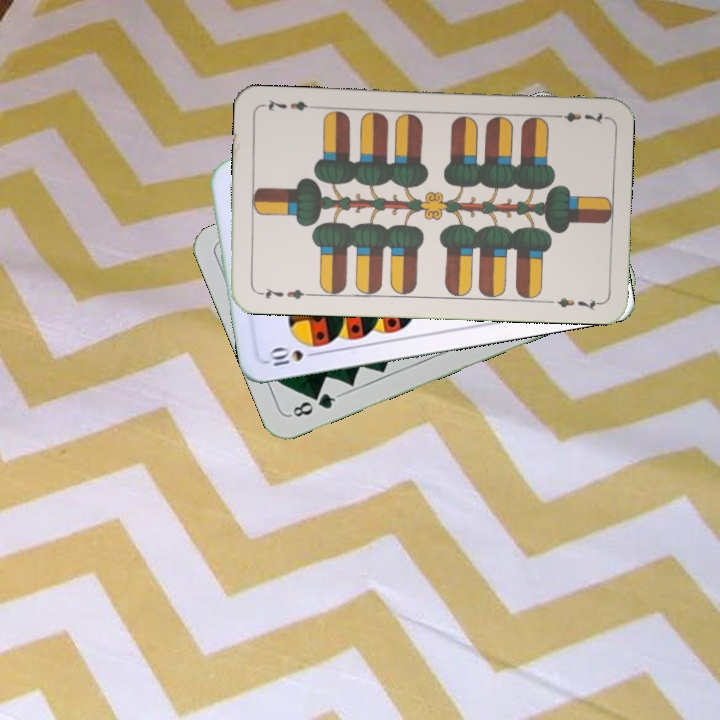E7: (549, 108, 608, 127), (253, 284, 312, 302)
G8: (286, 389, 342, 420)
S10: (263, 344, 322, 369)
